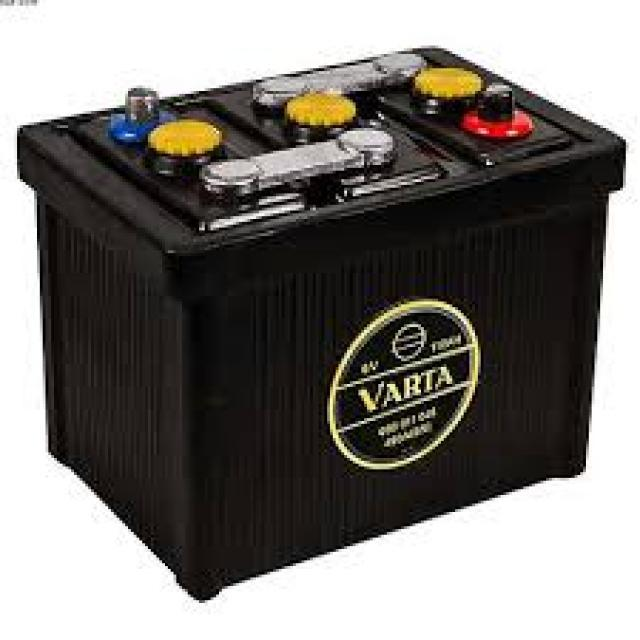battery: (10, 39, 628, 590)
